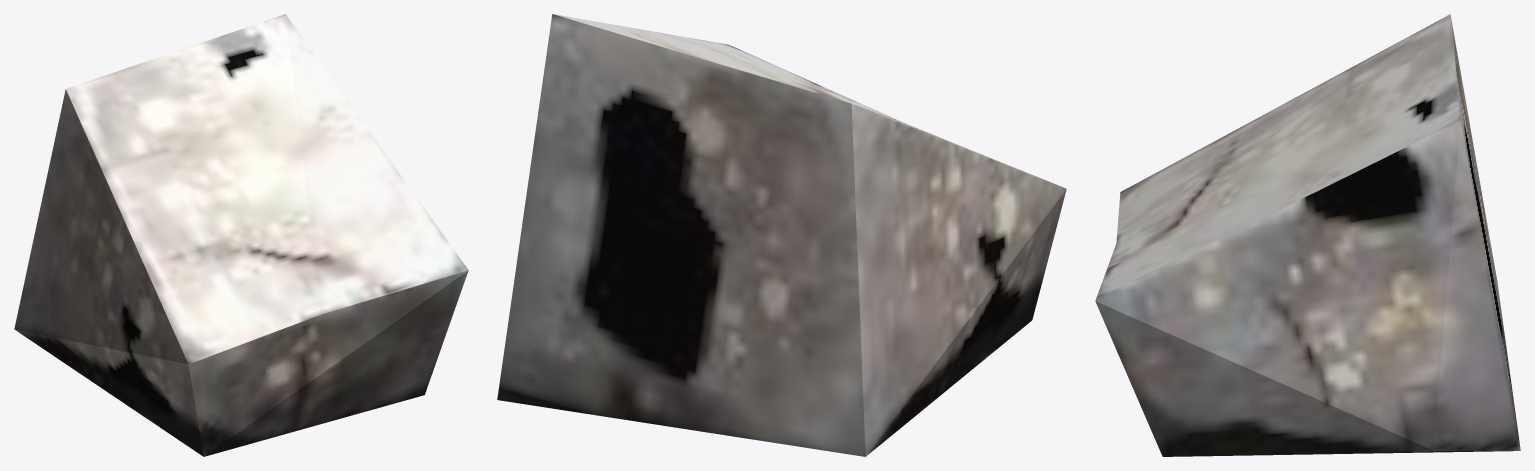
The model's file is ga3_rock_b_lod2.glb.
3 views of the same model, side by side, from view 1: azimuth 30°, elevation 25°; view 2: azimuth 150°, elevation 25°; view 3: azimuth 270°, elevation 25° (orthographic). The views are drawn at different scales.
Visible parts, largest first — view 1: ga3_rock_b_lod2; view 2: ga3_rock_b_lod2; view 3: ga3_rock_b_lod2.
Part boxes in pixels (x1,y1,x2,y2): ga3_rock_b_lod2: [14, 14, 468, 456]; ga3_rock_b_lod2: [497, 14, 1066, 456]; ga3_rock_b_lod2: [1095, 14, 1520, 456].
Size of the model in its own units: 0.9063 by 0.8343 by 0.9708.
Materials: 1 (1 with a texture image).
